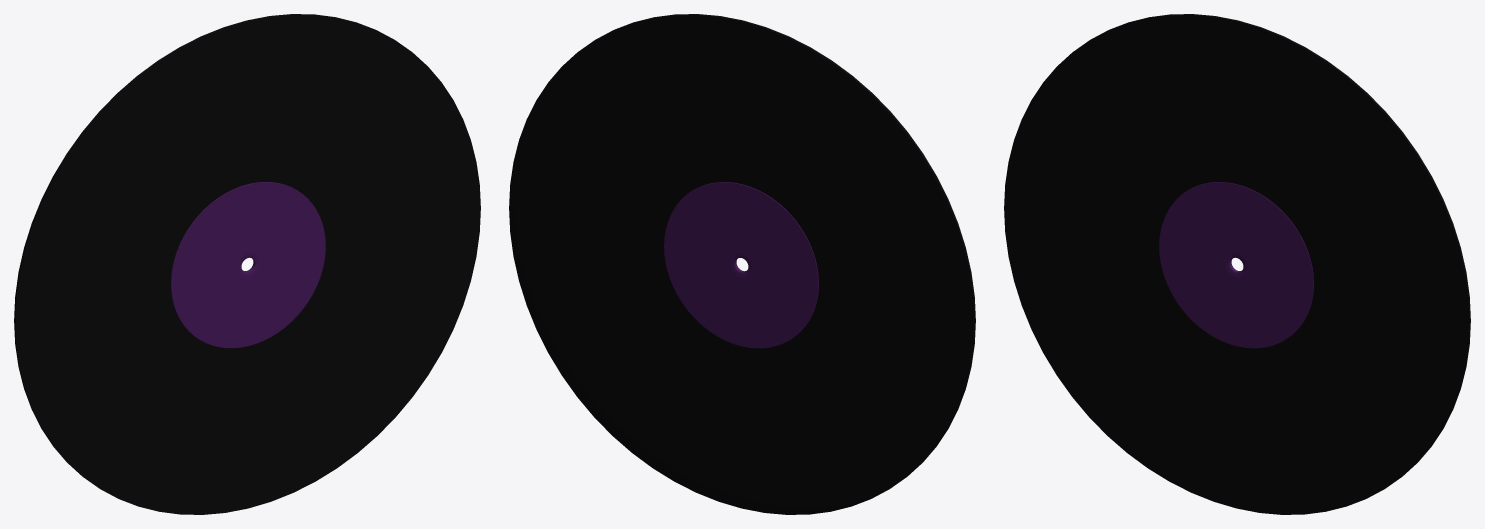
The model's file is Vinyl.glb.
The picture shows the model from 3 angles, left to right: view 1: azimuth 30°, elevation 25°; view 2: azimuth 150°, elevation 25°; view 3: azimuth 330°, elevation 25°; orthographic projection.
Parts seen in each view (by area): view 1: Vinyl1; view 2: Vinyl1; view 3: Vinyl1.
Boxes of the visible parts, x1=… form: Vinyl1: x1=14, y1=14, x2=480, y2=514; Vinyl1: x1=509, y1=14, x2=975, y2=514; Vinyl1: x1=1004, y1=14, x2=1470, y2=514.
Size of the model in its own units: 0.3048 by 0.3048 by 0.0025.
